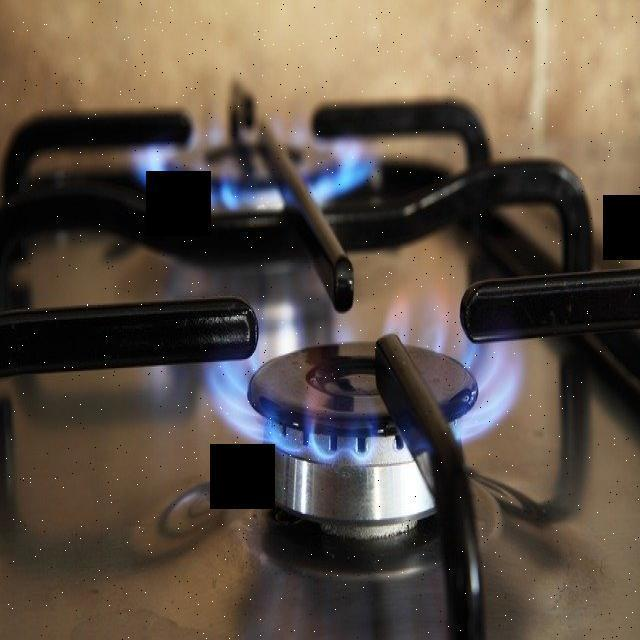Flame: (184, 308, 531, 476), (127, 120, 384, 253)
